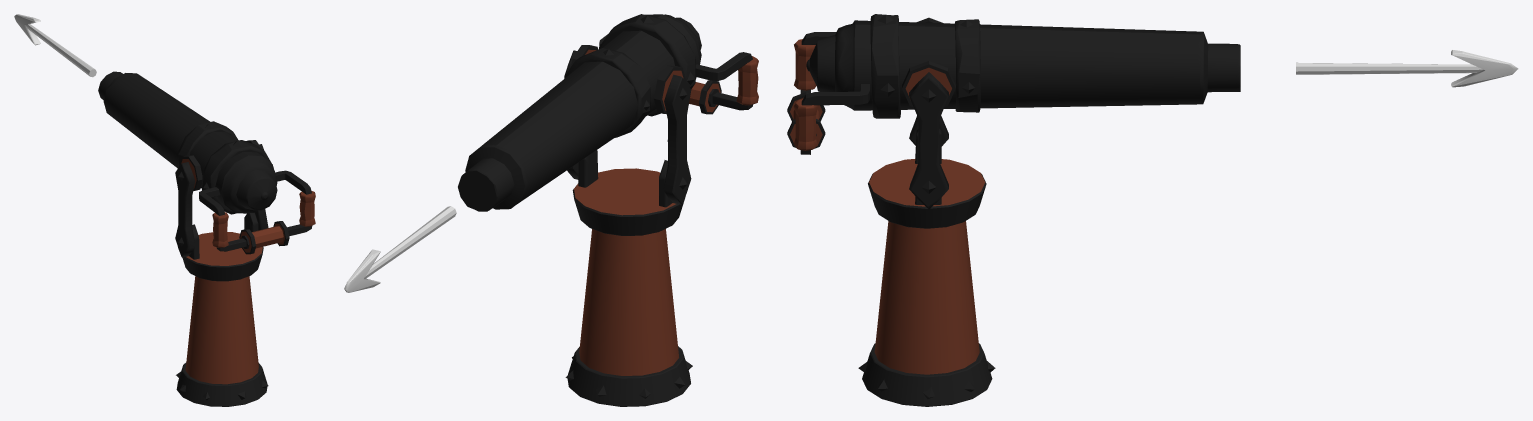
File: Env_Harpoon.fbx
3 renders of one model, left to right at view 1: azimuth 30°, elevation 25°; view 2: azimuth 150°, elevation 25°; view 3: azimuth 270°, elevation 25°, orthographic. The views are drawn at different scales.
Visible parts, largest first — view 1: HarpoonBarrel, HarpoonBase, HarpoonSupport, Harpoon; view 2: HarpoonBarrel, HarpoonBase, HarpoonSupport, Harpoon; view 3: HarpoonBarrel, HarpoonBase, HarpoonSupport, Harpoon.
Part boxes in pixels (box(x1,y1,x2,y2)): HarpoonBarrel: box(98, 71, 315, 254); HarpoonBase: box(176, 276, 268, 406); HarpoonSupport: box(175, 140, 268, 281); Harpoon: box(14, 14, 96, 77); HarpoonBarrel: box(458, 14, 758, 211); HarpoonBase: box(565, 229, 692, 406); HarpoonSupport: box(564, 45, 691, 235); Harpoon: box(344, 206, 456, 292); HarpoonBarrel: box(787, 14, 1240, 154); HarpoonBase: box(858, 221, 995, 406); HarpoonSupport: box(868, 17, 986, 228); Harpoon: box(1296, 50, 1518, 87).
Bounding box in the file's own units: 1.51 × 3.66 × 6.64.
